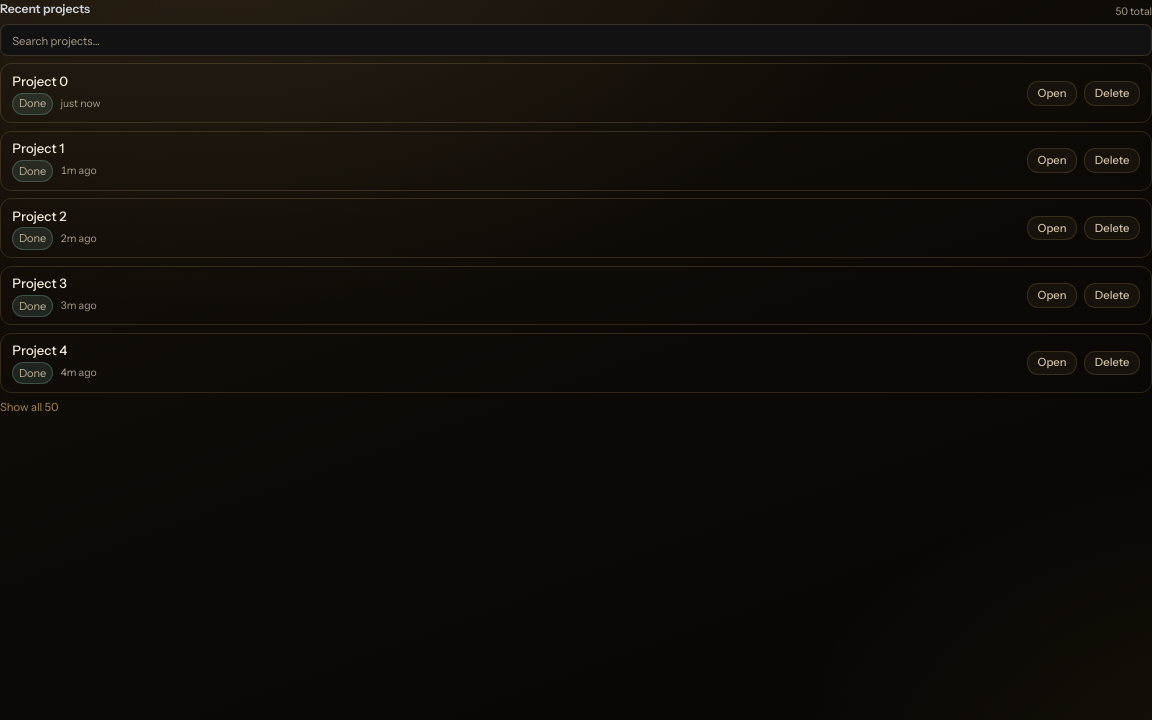
it: ProjectHistory with a long history › search finds an old project without scrolling to it
Expected: the text "Project 0" is shown, [12,73,68,89]
Type "Project 47" into the search field.
click(576, 40); type("Project 47")  # box [0,24,1151,56]
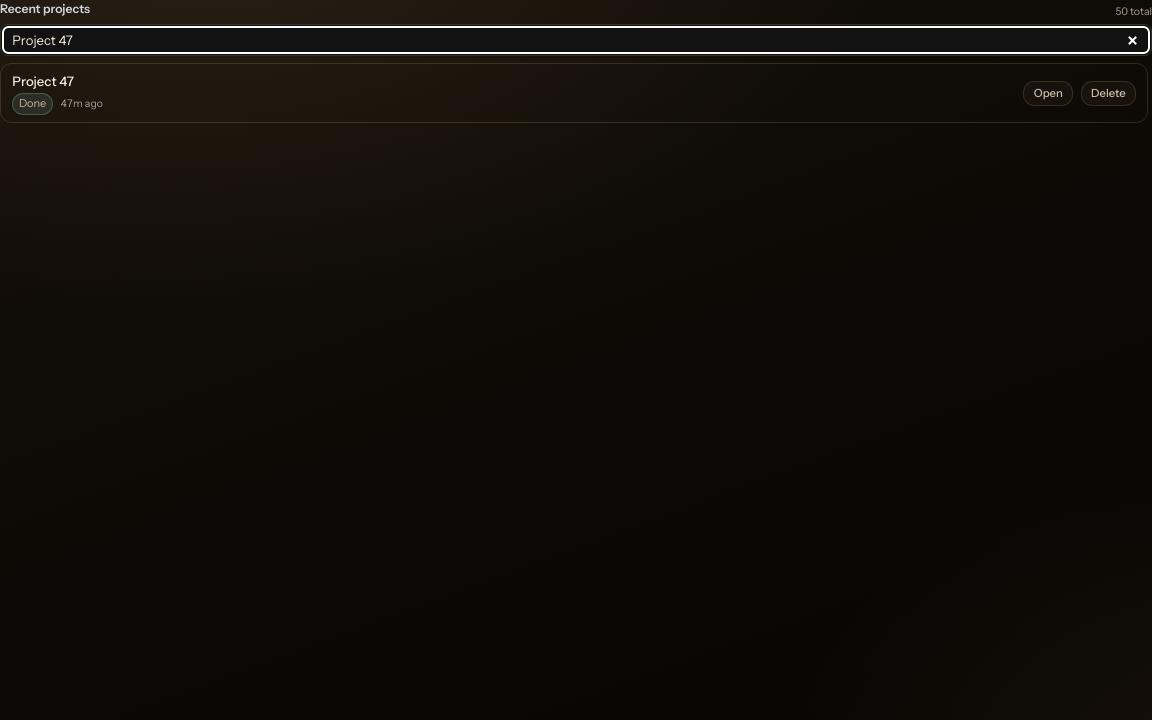
Now the text "Project 47" is shown, box [12,73,74,89]
Now the text "Project 0" is gone
